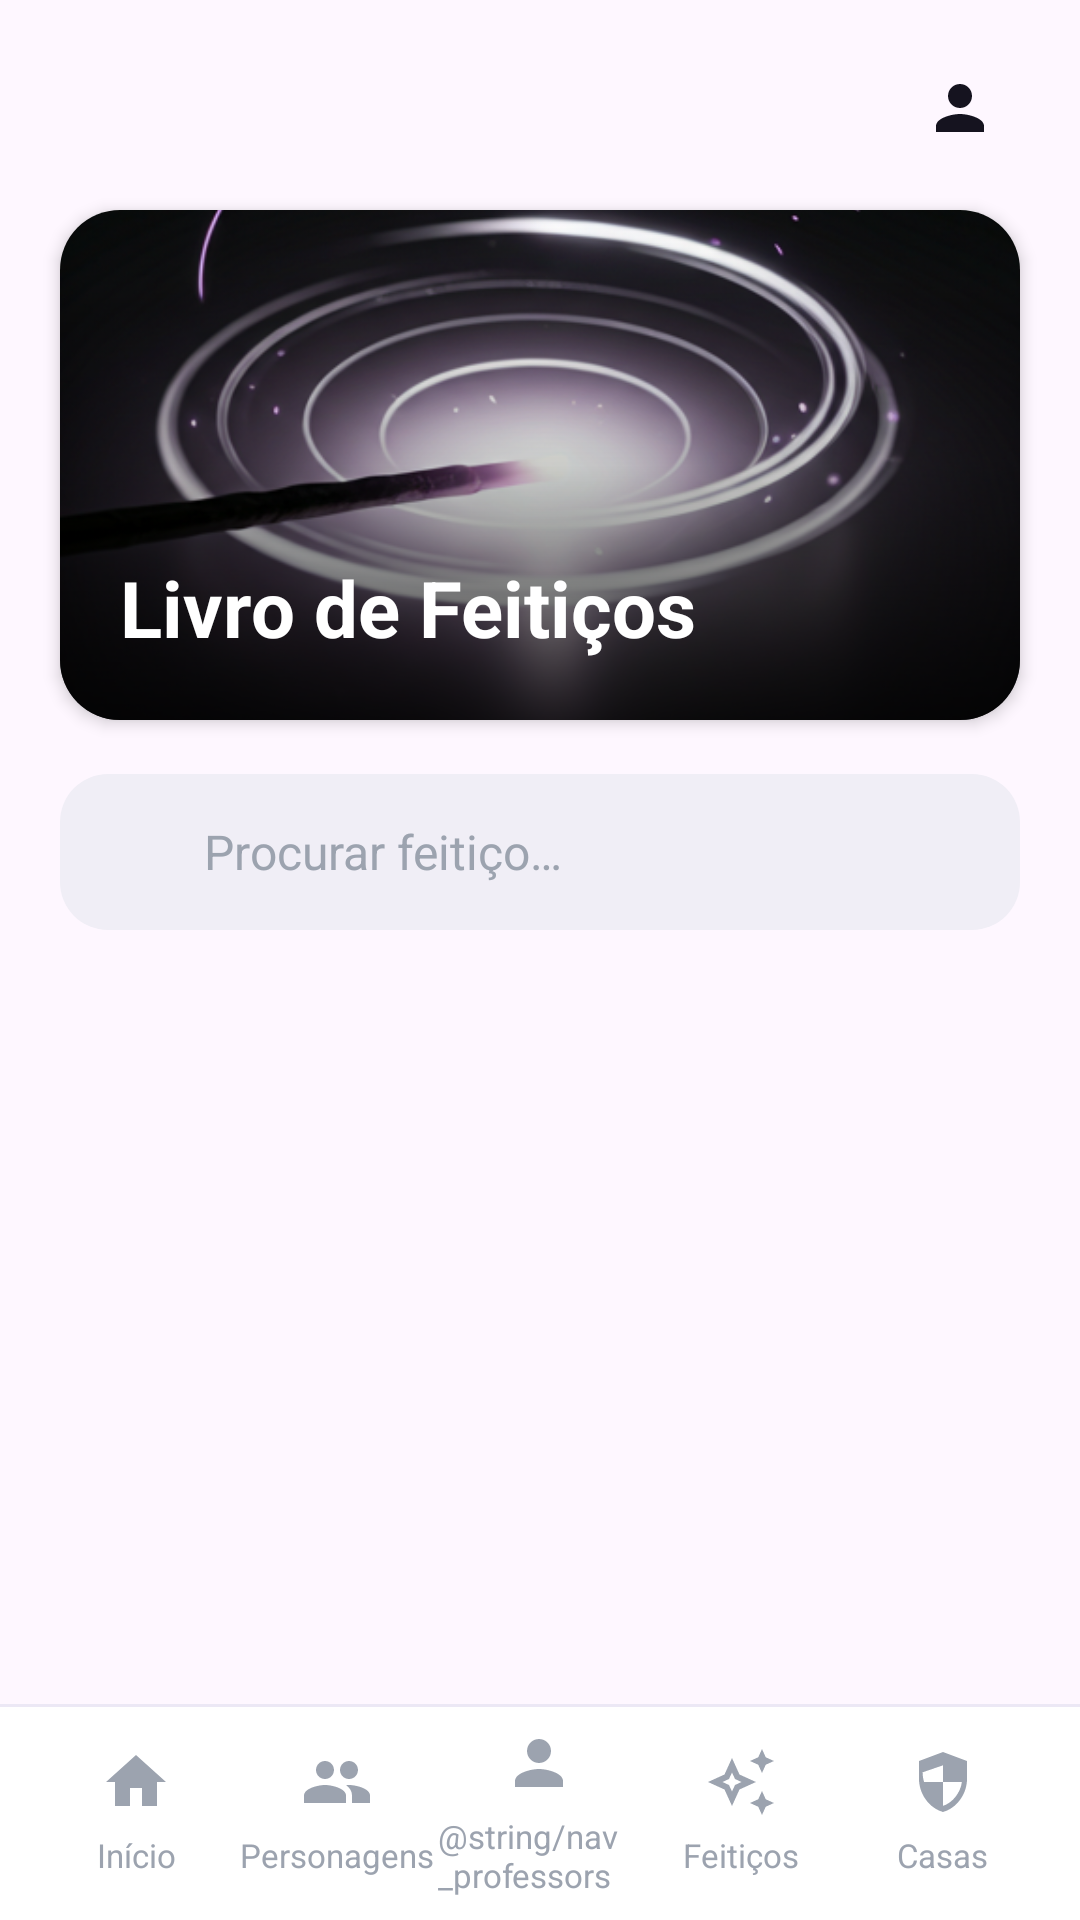

Where icons sit on this 1080w x 1920h app screen, as (x1, y1, x2, y2):
Perfil: (936, 84, 984, 132)
